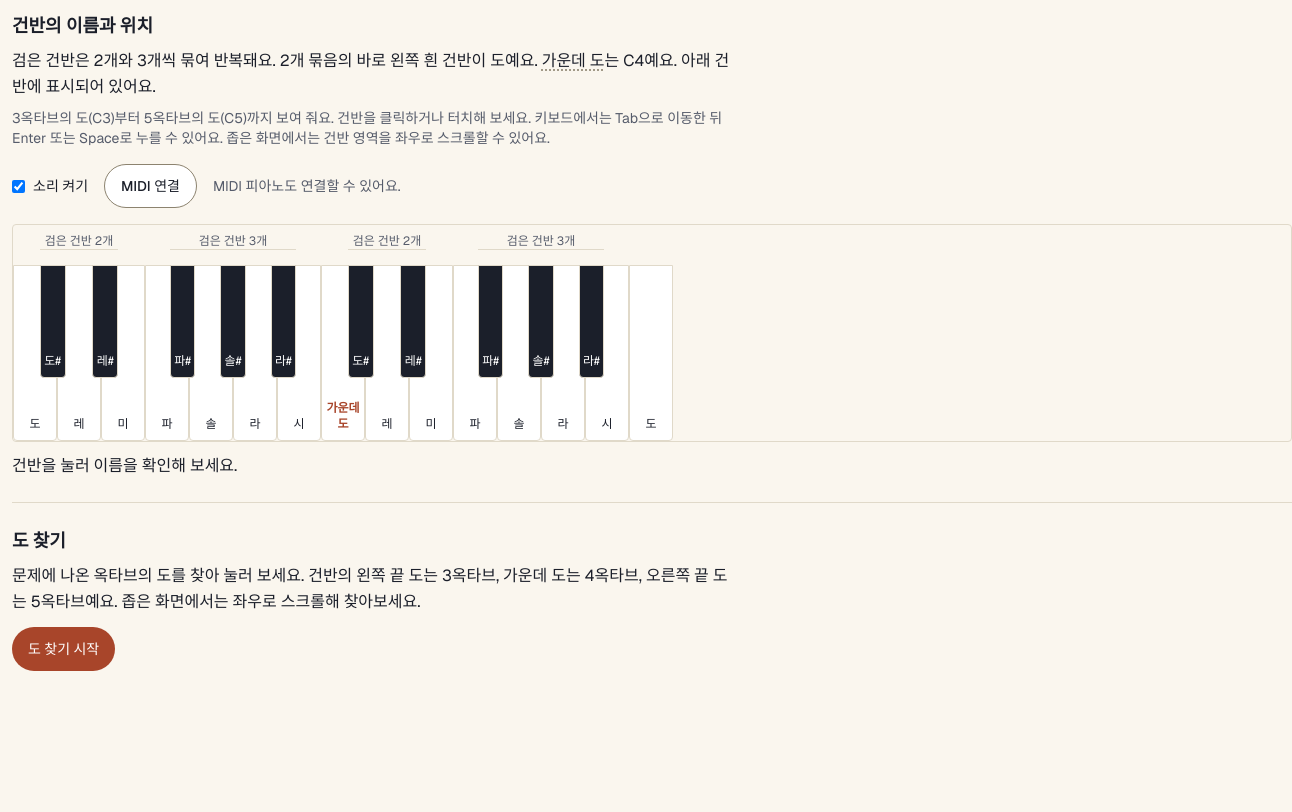
Scenario: keeps display and practice working when audio is throw
The image size is (1292, 812).
Click the button "도 찾기 시작" at (64, 649), box 12,627 -> 115,671
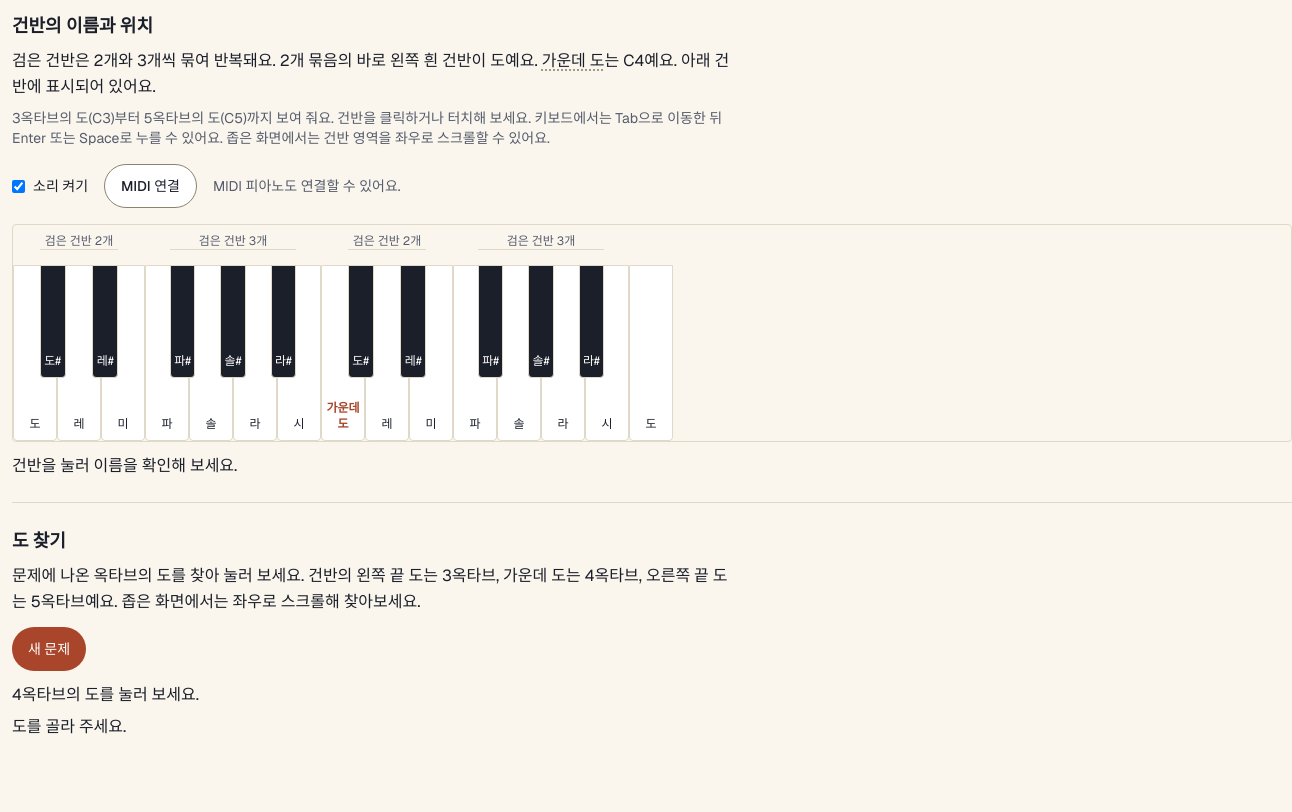
Click the button named "도 (3옥타브)" at (35, 353), box 13,265 -> 57,441
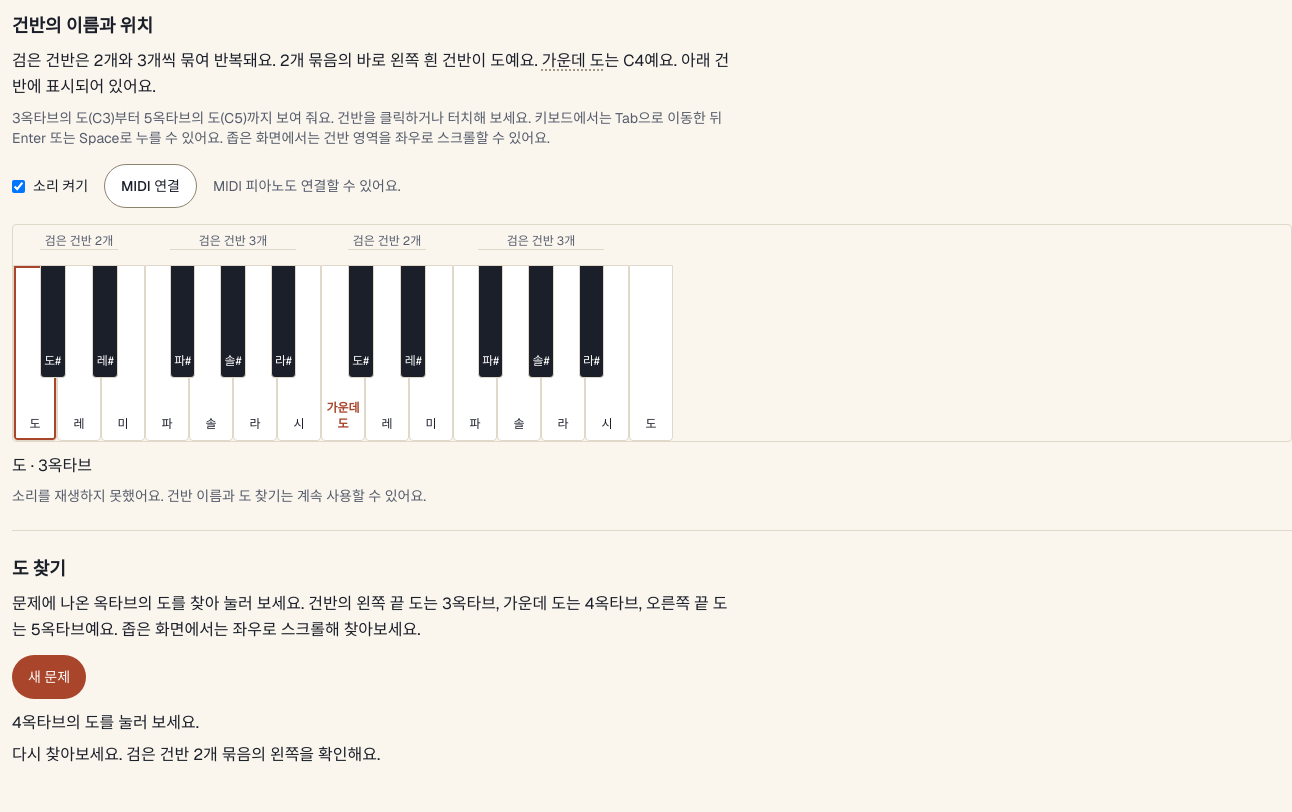
Expected: the message named "연습 결과" shows "다시", 12,744 -> 380,765
Click the button with aria-label "가운데 도 (4옥타브)" at (343, 353), box 321,265 -> 365,441
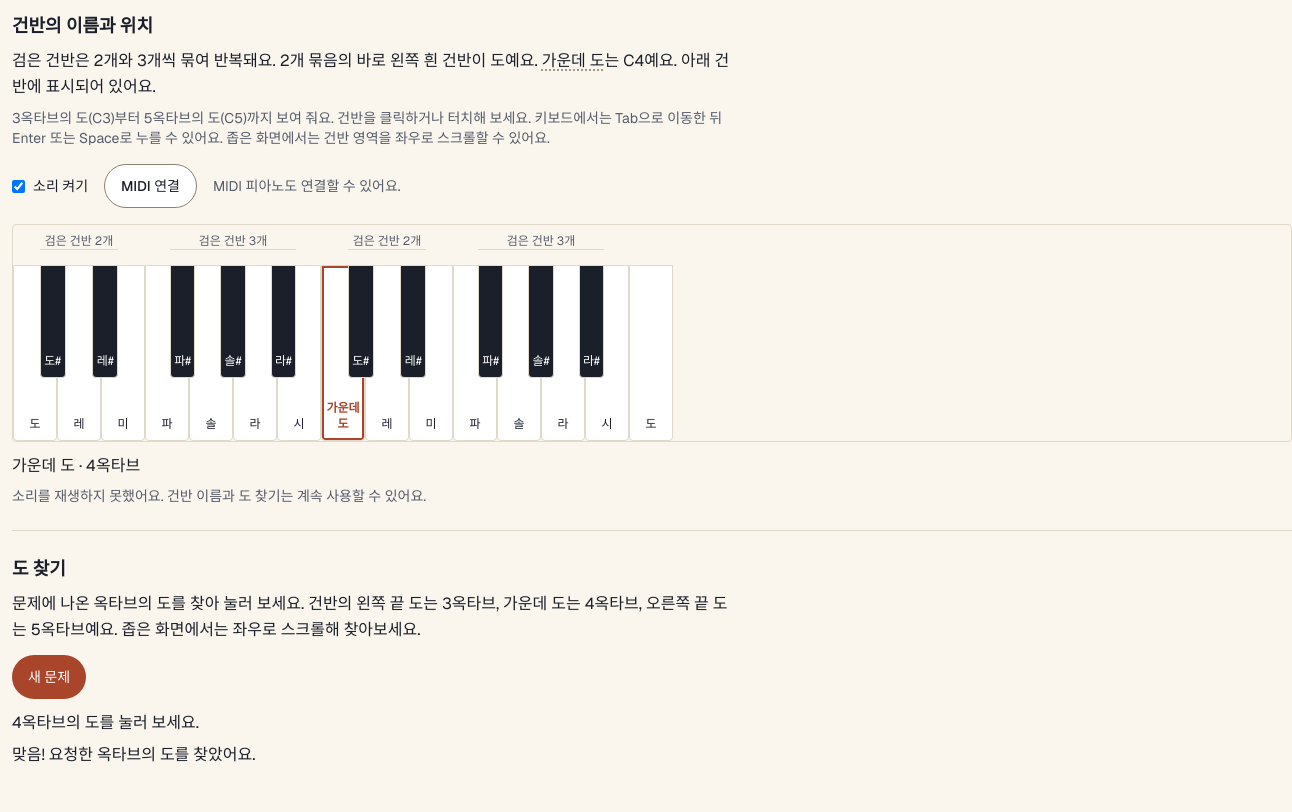
Expected: the text "소리를 재생하지 못했어요. 건반 이름과 도 찾기는 계속 사용할 수 있어요." is shown, 12,487 -> 426,505
Expected: the message named "연습 결과" shows "맞음", 12,744 -> 255,765
Expected: the message named "누른 건반" shows "가운데 도", 12,455 -> 140,476
